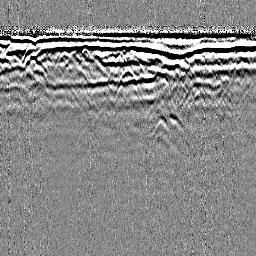cavity: (113, 64, 141, 96)
